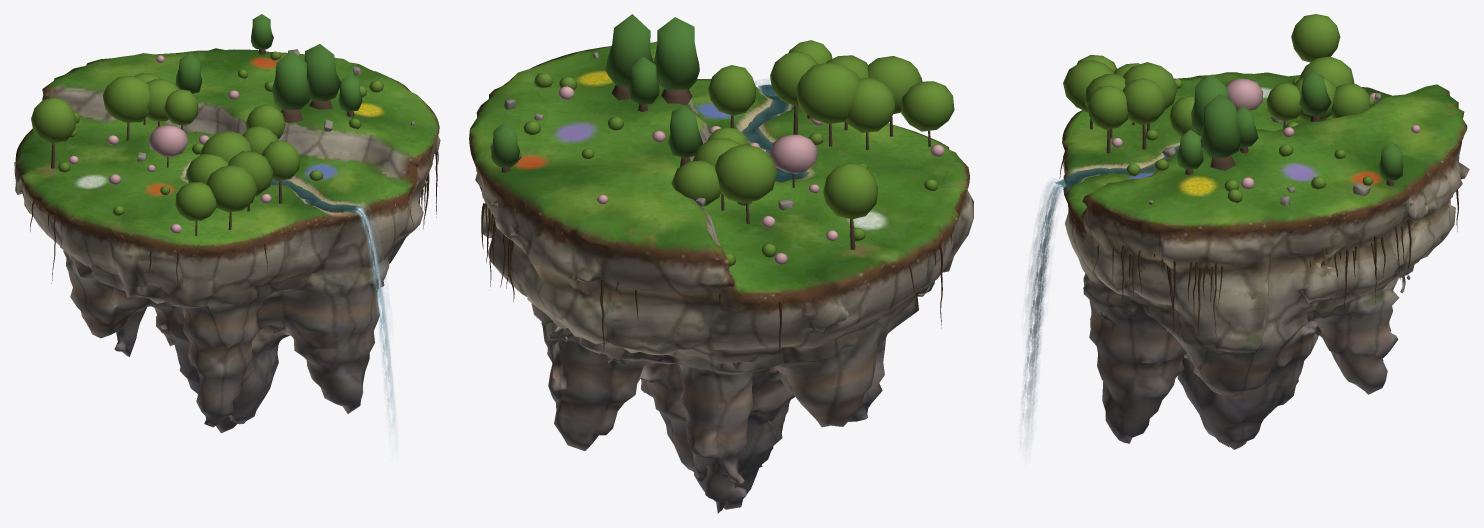
The model's file is island-terrace-lod1.glb.
The picture shows the model from 3 angles, left to right: view 1: azimuth 30°, elevation 25°; view 2: azimuth 150°, elevation 25°; view 3: azimuth 270°, elevation 25°; orthographic projection. The views are drawn at different scales.
Parts seen in each view (by area): view 1: Terrain, Detail, Waterfall, Stream; view 2: Terrain, Detail, Stream; view 3: Terrain, Detail, Waterfall, Stream.
Part boxes in pixels (x1,y1,x2,y2): Terrain: (14, 48, 440, 433); Detail: (30, 14, 438, 283); Waterfall: (355, 205, 396, 432); Stream: (270, 180, 361, 212); Terrain: (469, 41, 973, 513); Detail: (481, 14, 954, 359); Stream: (741, 85, 789, 155); Terrain: (1062, 72, 1469, 449); Detail: (1059, 14, 1458, 339); Waterfall: (1022, 178, 1066, 431); Stream: (1055, 145, 1179, 188).
Size of the model in its own units: 73.45 by 75.63 by 76.44.
5 materials, 2 textured.
